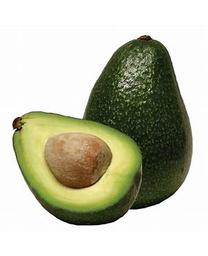avocado: (82, 35, 193, 210), (11, 110, 143, 226)
